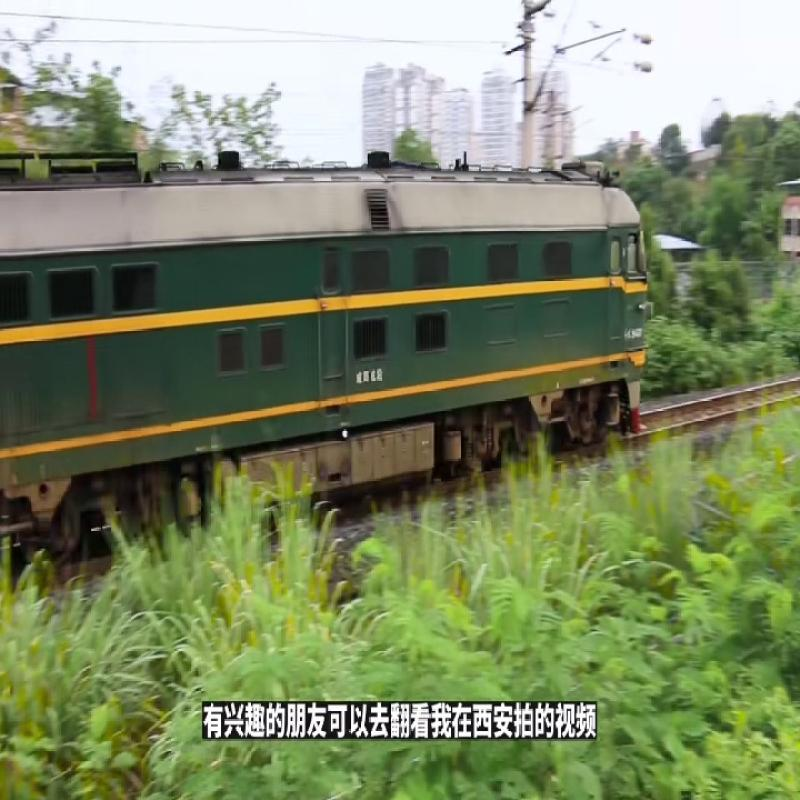train: (10, 162, 649, 542)
